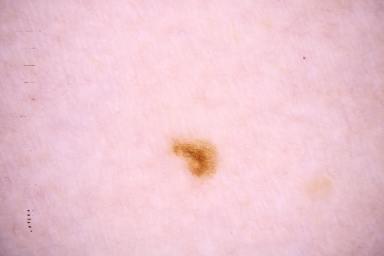nevus: (174, 139, 216, 181)
